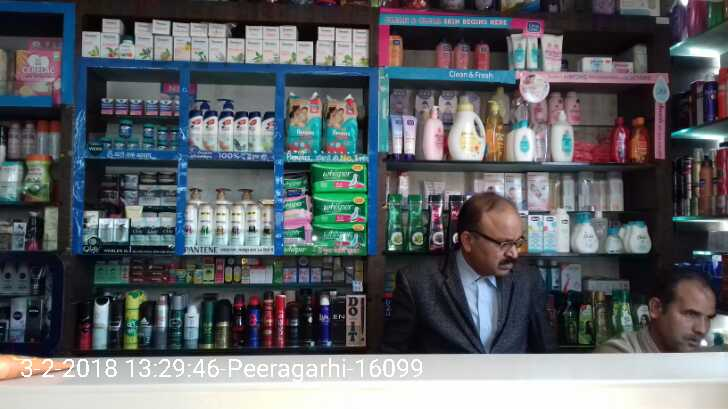vicks: (100, 120, 181, 149), (100, 96, 183, 117)
